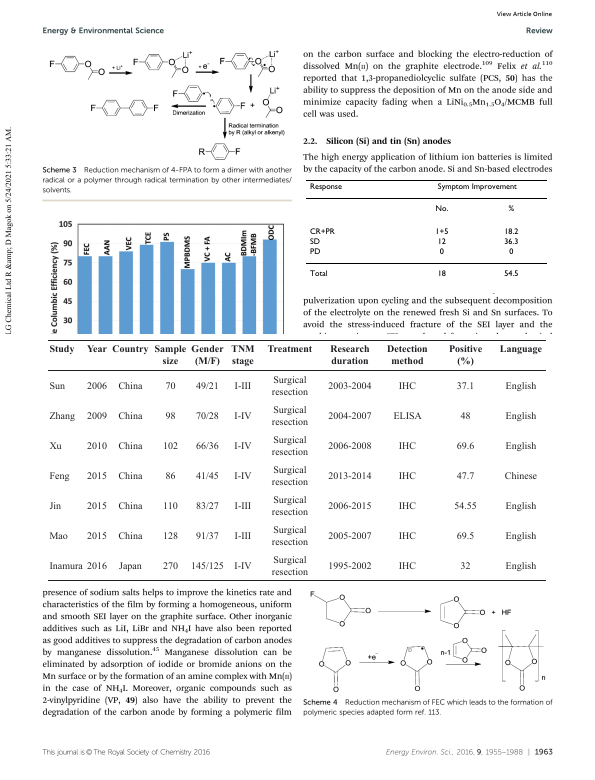borderless: (47, 339, 546, 580), (304, 178, 548, 287)
cell: (386, 345, 428, 368), (329, 345, 370, 368), (270, 405, 309, 429), (270, 376, 309, 399), (270, 435, 309, 458), (270, 465, 309, 488), (270, 495, 309, 518), (270, 525, 309, 548), (270, 555, 309, 578), (448, 345, 483, 368), (153, 345, 187, 368), (190, 345, 224, 368), (436, 183, 517, 192), (230, 345, 255, 368), (327, 411, 372, 423), (266, 345, 313, 356), (498, 345, 543, 356), (327, 382, 372, 393), (327, 441, 372, 452), (327, 471, 372, 482), (327, 501, 372, 512), (327, 531, 372, 542), (327, 561, 372, 572), (111, 345, 149, 356), (504, 411, 537, 423), (503, 471, 538, 482), (48, 561, 83, 572), (190, 561, 224, 572), (504, 382, 537, 393), (504, 441, 537, 452), (504, 501, 537, 512), (504, 531, 537, 542), (504, 561, 537, 572), (392, 411, 422, 423), (48, 411, 76, 423), (117, 411, 143, 423), (308, 183, 342, 192), (48, 345, 75, 356), (195, 411, 219, 423), (117, 382, 143, 393), (117, 441, 143, 452), (117, 471, 143, 482), (117, 501, 143, 512), (117, 531, 143, 542), (308, 227, 335, 237), (195, 382, 219, 393), (86, 411, 108, 423), (195, 441, 219, 452), (195, 471, 219, 482), (195, 501, 219, 512), (453, 501, 477, 512), (195, 531, 219, 542), (118, 561, 142, 572), (86, 345, 108, 356), (85, 382, 107, 393), (85, 441, 107, 452), (48, 471, 70, 482), (86, 471, 108, 482), (86, 501, 108, 512), (86, 531, 108, 542), (86, 561, 108, 572), (233, 411, 252, 423), (397, 382, 417, 393), (455, 382, 475, 393), (397, 441, 417, 452), (455, 441, 475, 452), (397, 471, 417, 482), (455, 471, 475, 482), (397, 501, 417, 512), (48, 531, 68, 542), (397, 531, 417, 542), (455, 531, 475, 542), (397, 561, 417, 572), (233, 382, 252, 393), (233, 441, 252, 452), (233, 471, 252, 482), (233, 501, 252, 512), (233, 531, 252, 542), (233, 561, 252, 572), (48, 382, 66, 393), (162, 441, 179, 452), (162, 531, 179, 542), (162, 561, 179, 572), (308, 270, 328, 279), (162, 501, 178, 512), (503, 227, 519, 237), (503, 237, 519, 247), (48, 441, 62, 452), (48, 501, 62, 512), (434, 227, 449, 237), (503, 270, 519, 279), (164, 411, 176, 423), (459, 411, 471, 423), (434, 205, 449, 214), (164, 382, 176, 393), (164, 471, 176, 482), (459, 561, 471, 572), (308, 237, 320, 247), (308, 248, 321, 257), (436, 237, 446, 247), (436, 270, 446, 279), (507, 205, 515, 214), (438, 248, 444, 257), (508, 248, 514, 257)
